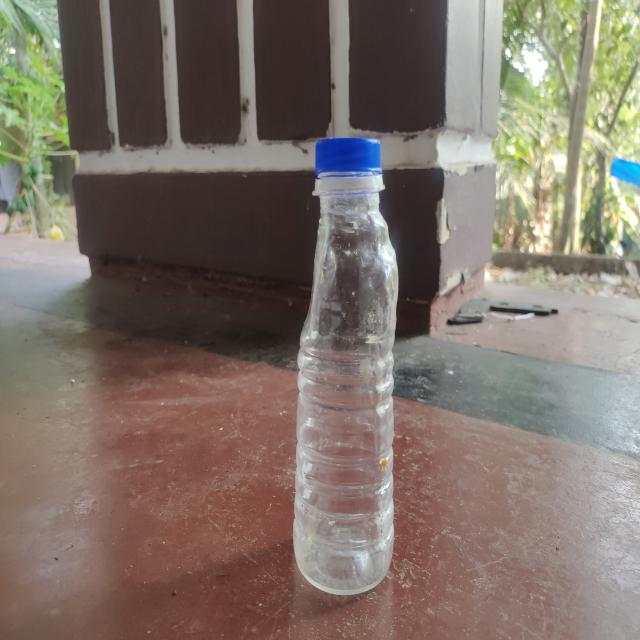plastic: (294, 132, 398, 599)
